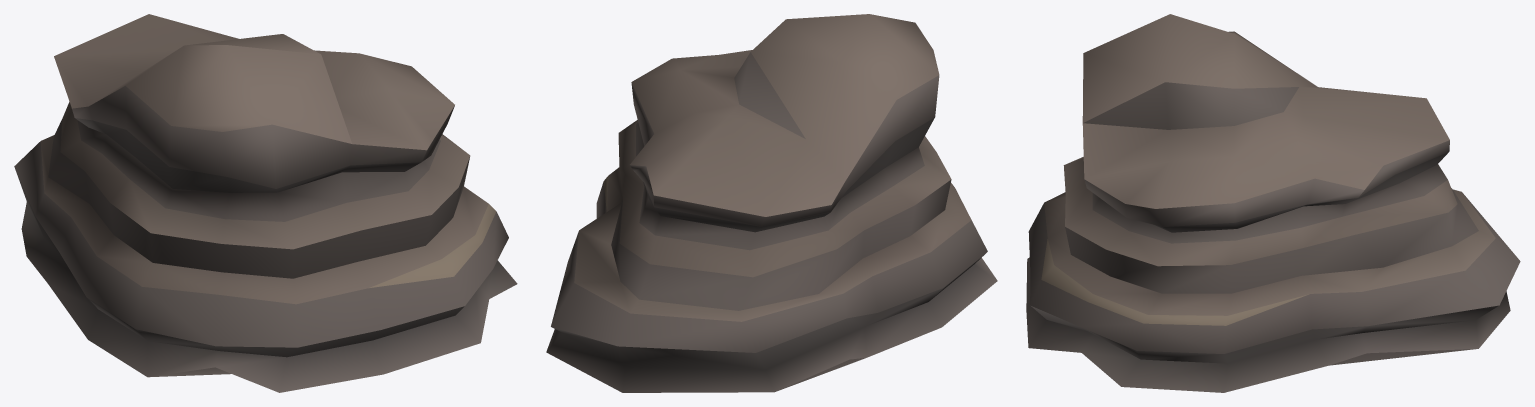
File: geology-rocks-layeredrock_v4.glb
3 views of the same model, side by side, from view 1: azimuth 30°, elevation 25°; view 2: azimuth 150°, elevation 25°; view 3: azimuth 270°, elevation 25° (orthographic). The views are drawn at different scales.
Parts seen in each view (by area): view 1: LayeredRock_v4; view 2: LayeredRock_v4; view 3: LayeredRock_v4.
Part boxes in pixels (x1,y1,x2,y2): LayeredRock_v4: (14, 14, 517, 392); LayeredRock_v4: (546, 14, 997, 392); LayeredRock_v4: (1026, 14, 1520, 392).
Bounding box in the file's own units: 8.92 × 7.39 × 11.29.
